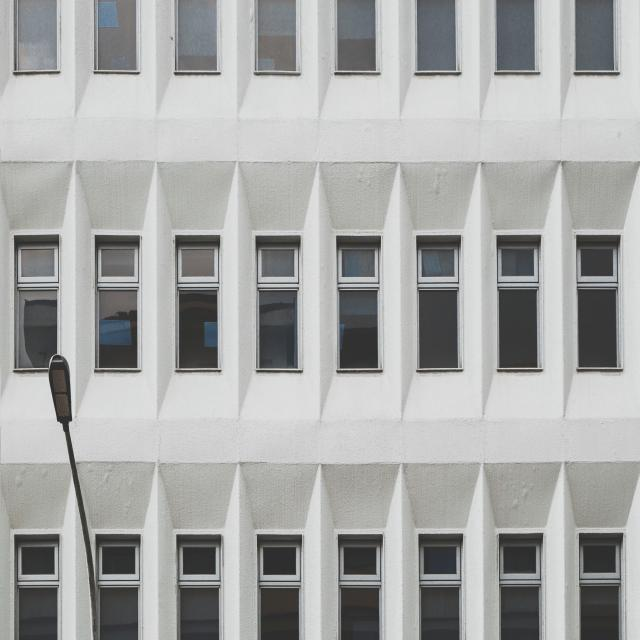Street Light: (48, 351, 100, 639)
